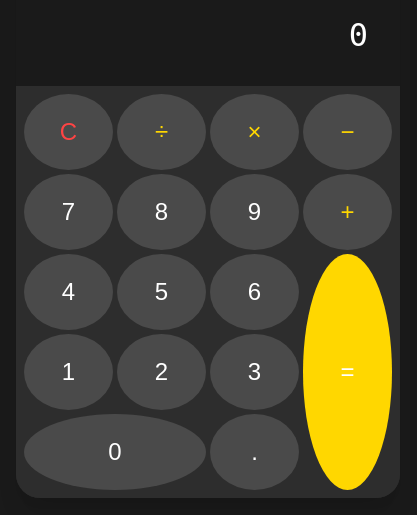
Test: performs addition correctly
This screenshot has width=417, height=515.
Click the button with test id "button-2".
click(162, 372)  # box 117,334 -> 206,410
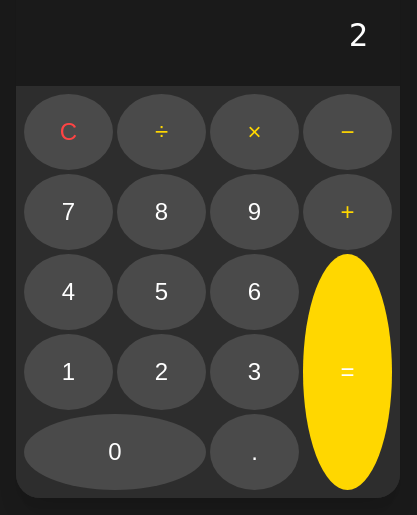
Click the button with test id "button-plus".
click(348, 212)  # box 303,174 -> 392,250
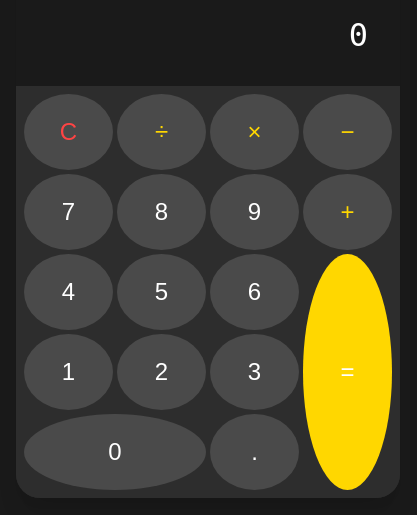
Click the button with test id "button-3".
click(254, 372)  # box 210,334 -> 299,410
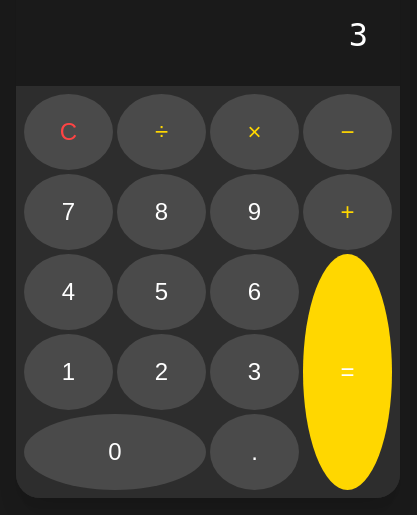
Click the button with test id "button-equal".
click(348, 372)  # box 303,254 -> 392,490
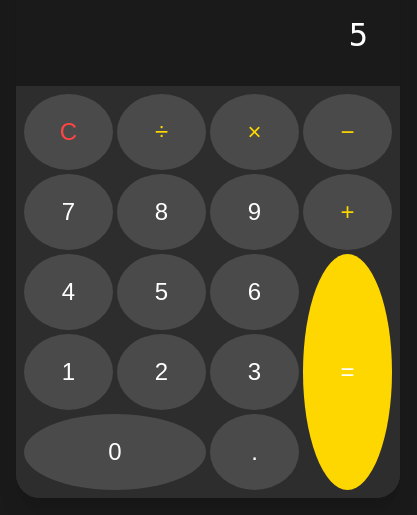
Expected: the text with test id "result" reads "5", 349,16 -> 368,54
